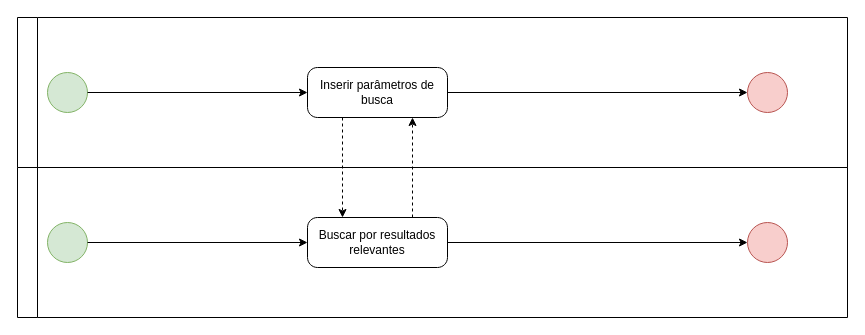
Image size: 865x335. Some labels were removed from this diagram. The box of each missing label's shape, as (x1, y1, x2, y2) in pixels:
App: (16, 166, 848, 318)
Usuário: (16, 16, 848, 168)
